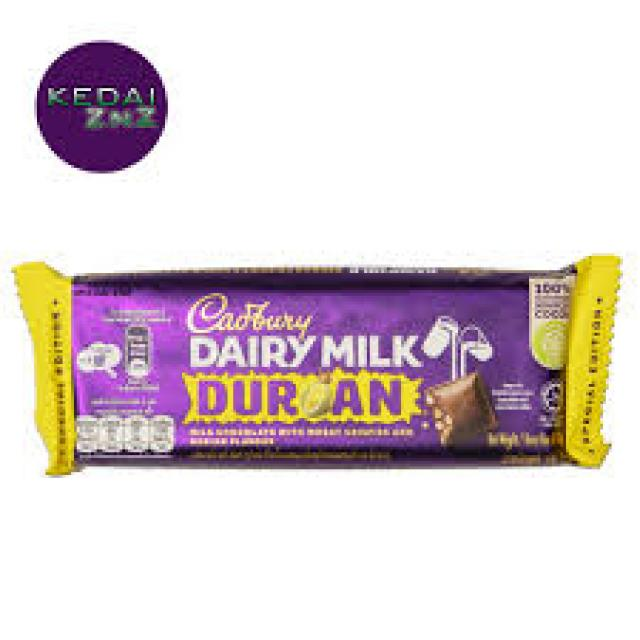cadbury: (72, 276, 576, 467)
